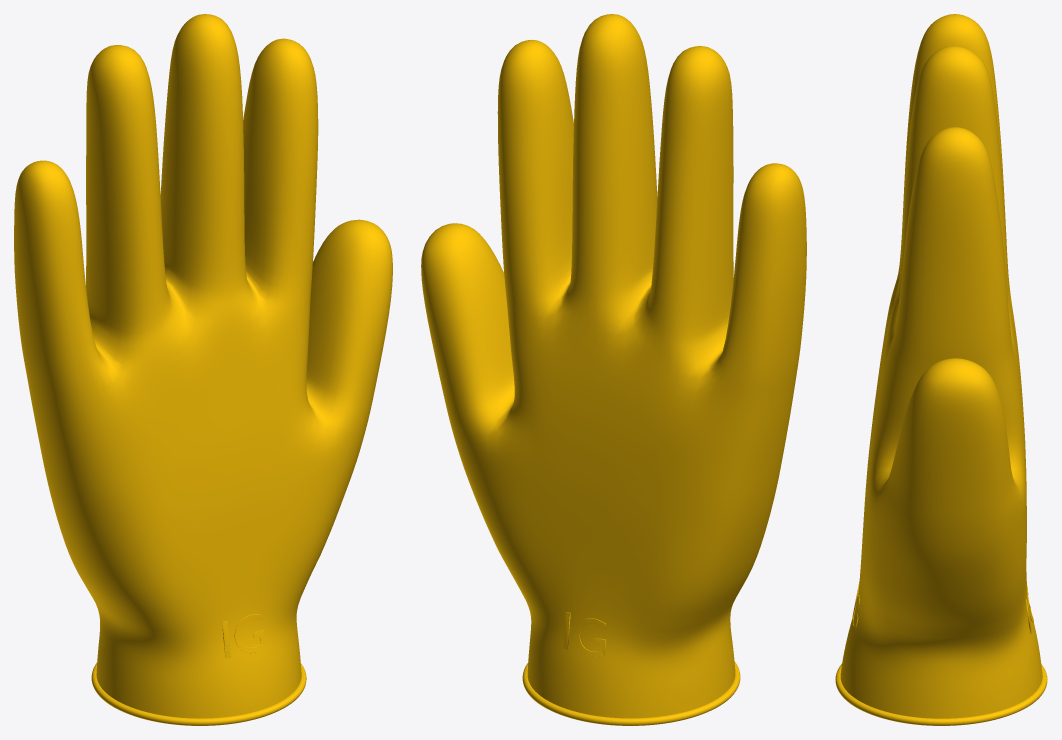
File: diamond-8-mil--yellow.glb
3 views of the same model, side by side, from view 1: azimuth 30°, elevation 25°; view 2: azimuth 150°, elevation 25°; view 3: azimuth 270°, elevation 25° (orthographic). The views are drawn at different scales.
Visible parts, largest first — view 1: pCube8, IG cuff front; view 2: pCube8, IG cuff back; view 3: pCube8.
Boxes of the visible parts, x1,y1,x2,y2 form: pCube8: [14, 14, 392, 725]; IG cuff front: [222, 614, 265, 658]; pCube8: [421, 14, 806, 725]; IG cuff back: [563, 611, 605, 656]; pCube8: [835, 14, 1047, 725].
Bounding box in the file's own units: 0.1386 × 0.2392 × 0.0717.
